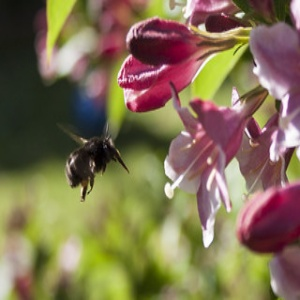bee: (51, 119, 129, 208)
